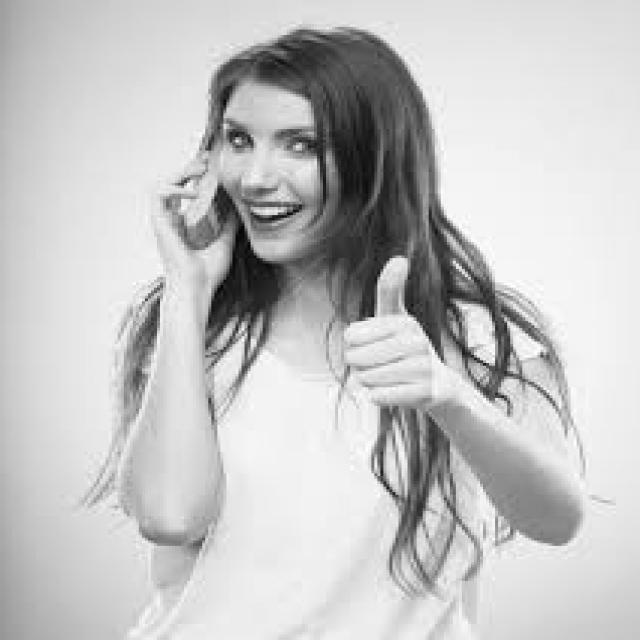phone: (148, 97, 263, 285)
